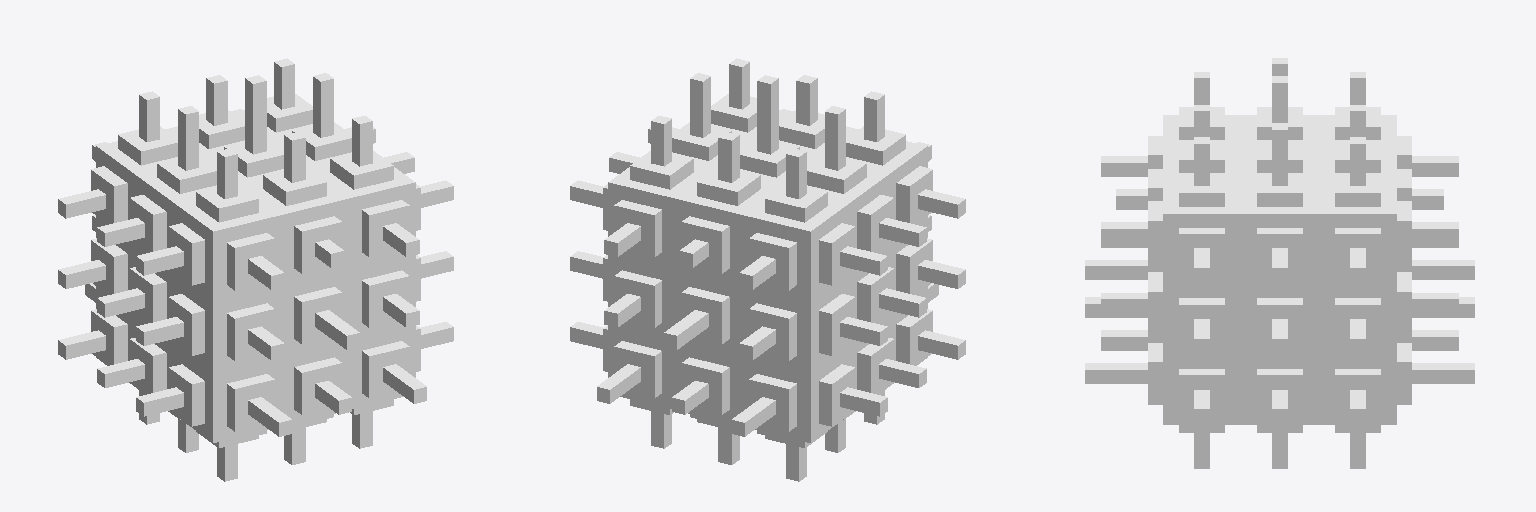
File: bullet_orange.obj
3 renders of one model, left to right at view 1: azimuth 30°, elevation 25°; view 2: azimuth 150°, elevation 25°; view 3: azimuth 270°, elevation 25°, orthographic.
Visible parts, largest first — view 1: bullet_orange; view 2: bullet_orange; view 3: bullet_orange.
Part boxes in pixels (left/top/right/bottom): bullet_orange: left=58, top=58, right=453, bottom=481; bullet_orange: left=570, top=58, right=965, bottom=481; bullet_orange: left=1085, top=58, right=1474, bottom=468.
Bounding box in the file's own units: 23 × 25 × 25.